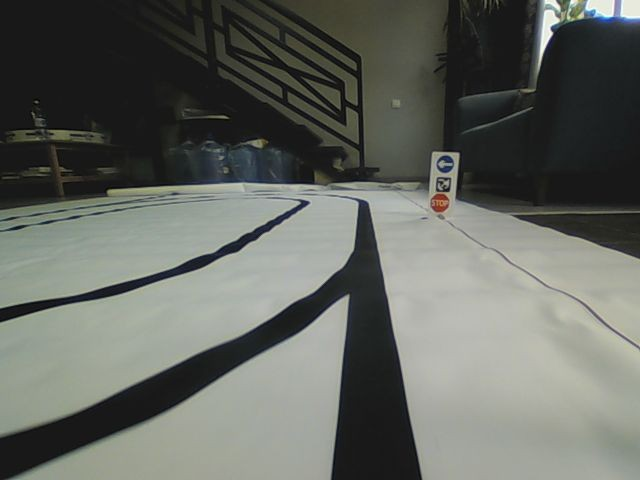Stop: (429, 193, 451, 211)
